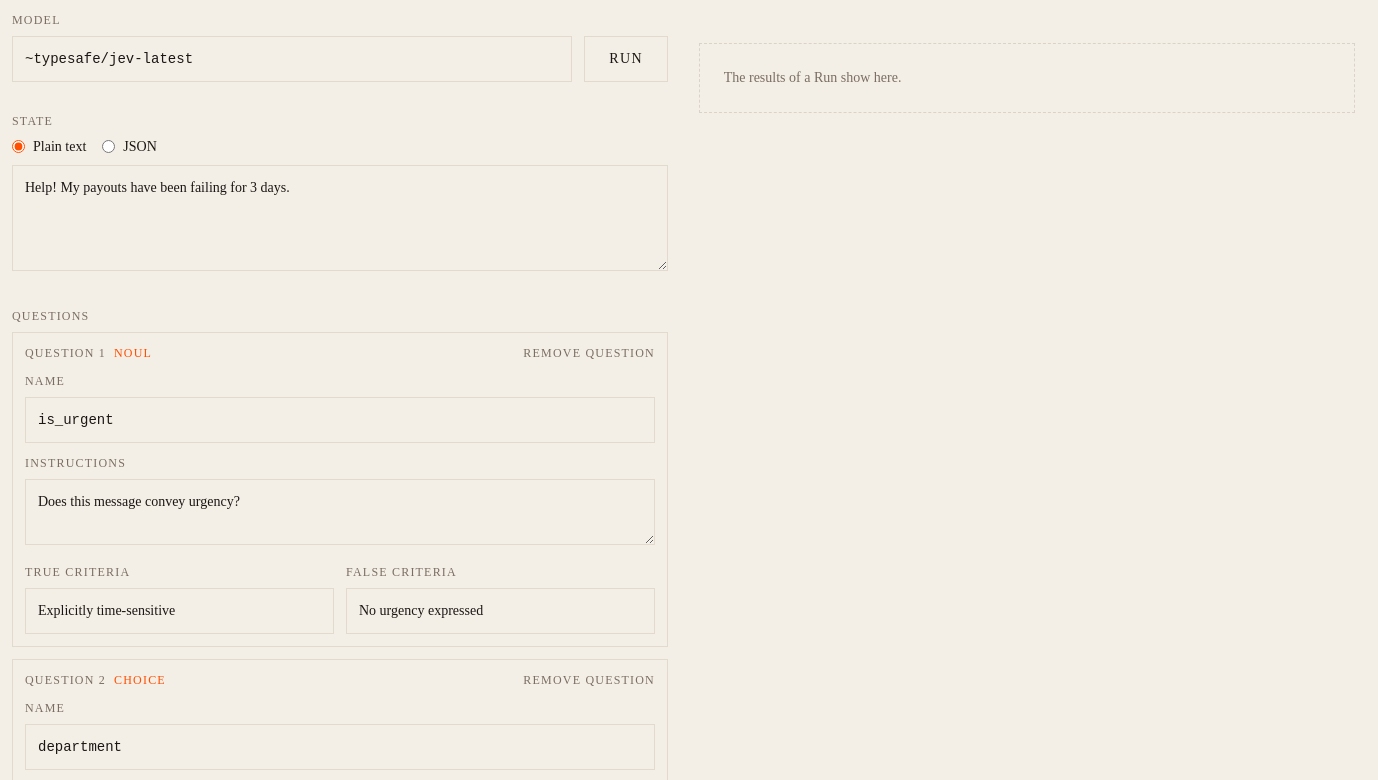
Options panel › shows that a Run is in progress and cannot be clicked twice
Click the button "Run".
click(626, 59)  # box [584, 36, 668, 82]
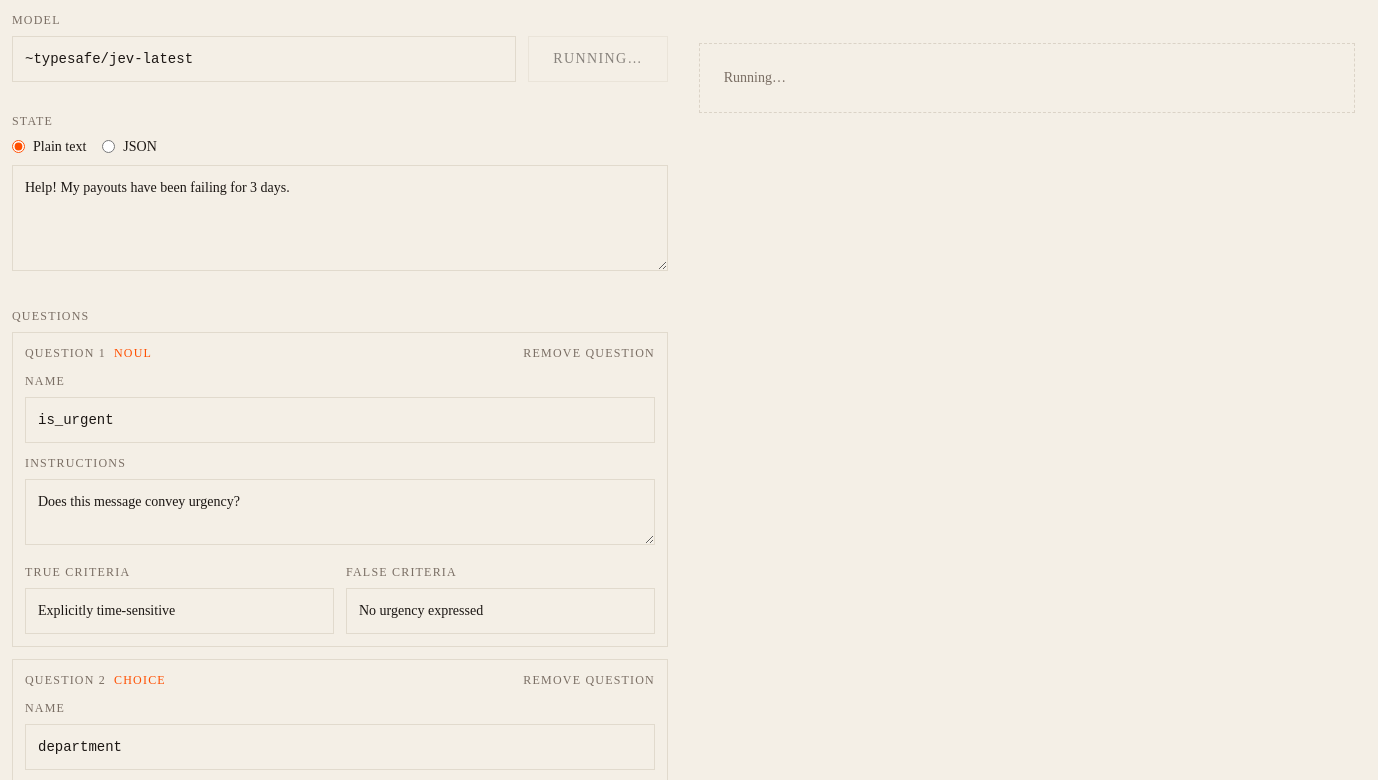
Check: the button "Running…" is disabled
Click the button "Running…".
click(598, 59)  # box [528, 36, 668, 82]
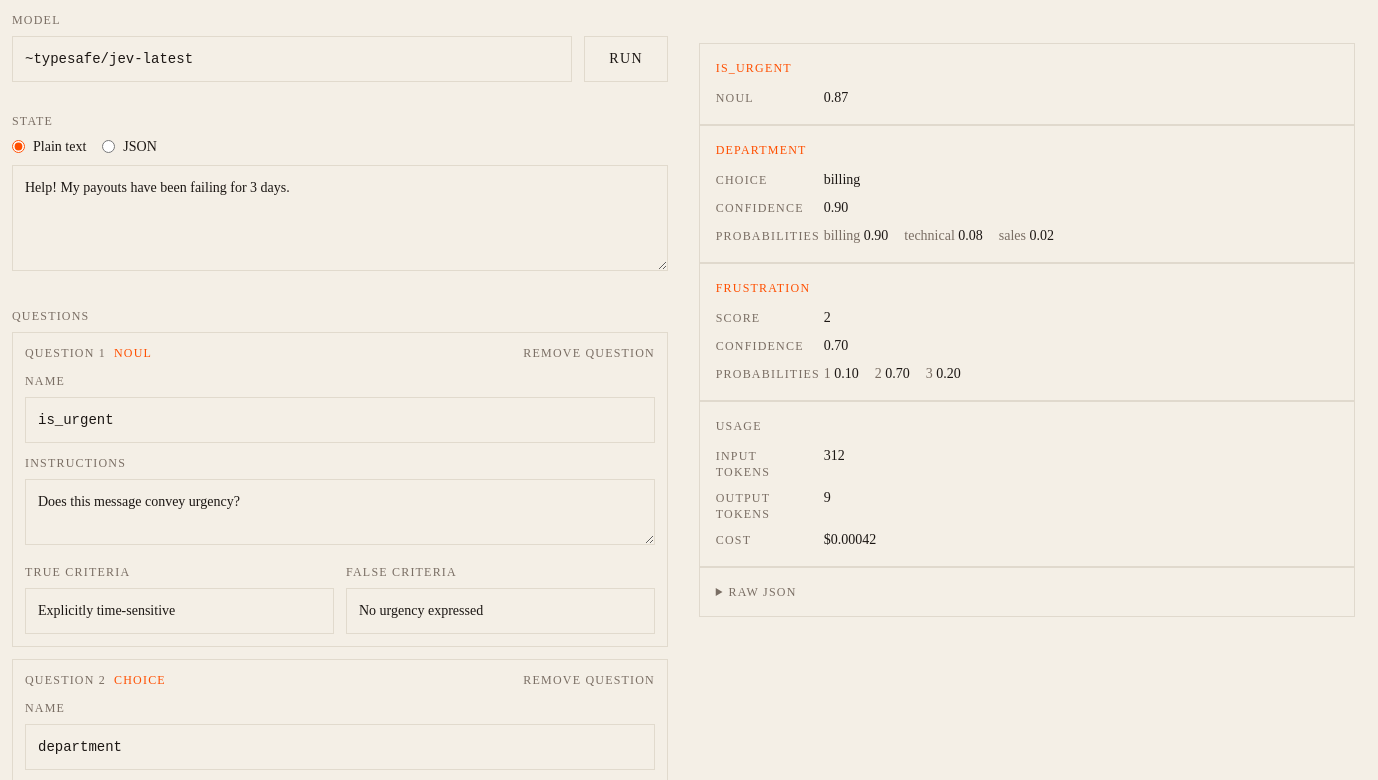
Check: the button "Run" is enabled, box [584, 36, 668, 82]
